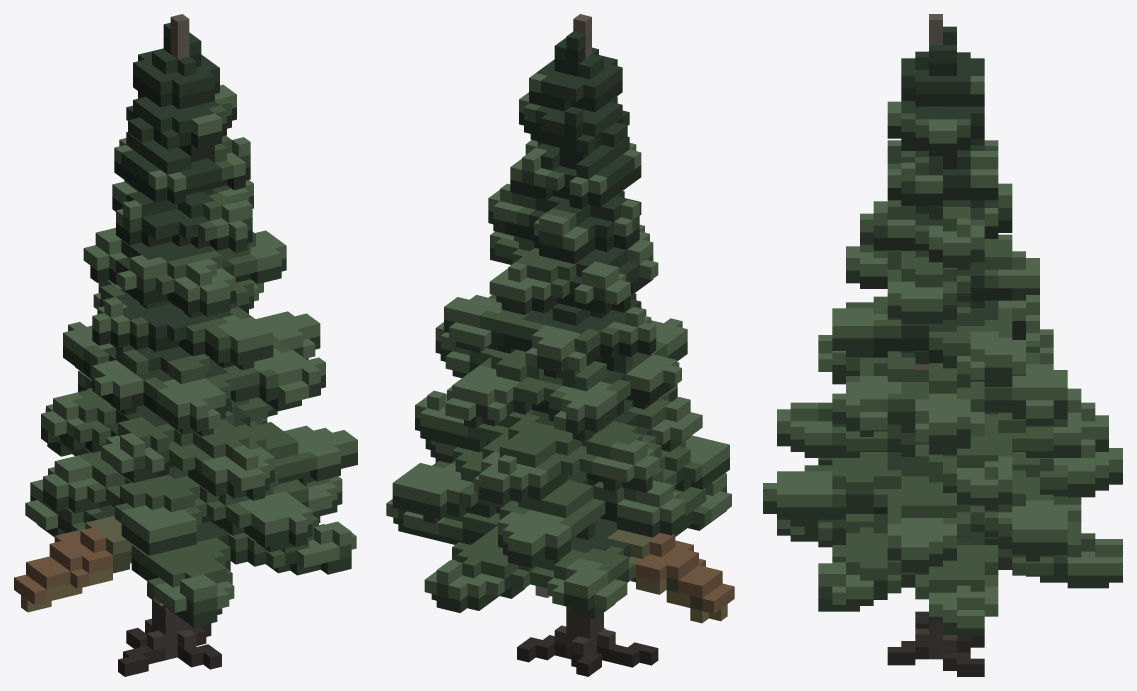
Rendered from Claude_healthy_pine.glb.
3 renders of one model, left to right at view 1: azimuth 30°, elevation 25°; view 2: azimuth 150°, elevation 25°; view 3: azimuth 270°, elevation 25°, orthographic.
Visible parts, largest first — view 1: Claude_healthy_pine; view 2: Claude_healthy_pine; view 3: Claude_healthy_pine.
Part boxes in pixels (x1=…): Claude_healthy_pine: x1=14, y1=14, x2=357, y2=676; Claude_healthy_pine: x1=386, y1=14, x2=734, y2=676; Claude_healthy_pine: x1=763, y1=14, x2=1122, y2=676.
Bounding box in the file's own units: 2.7 × 5.1 × 2.6.
